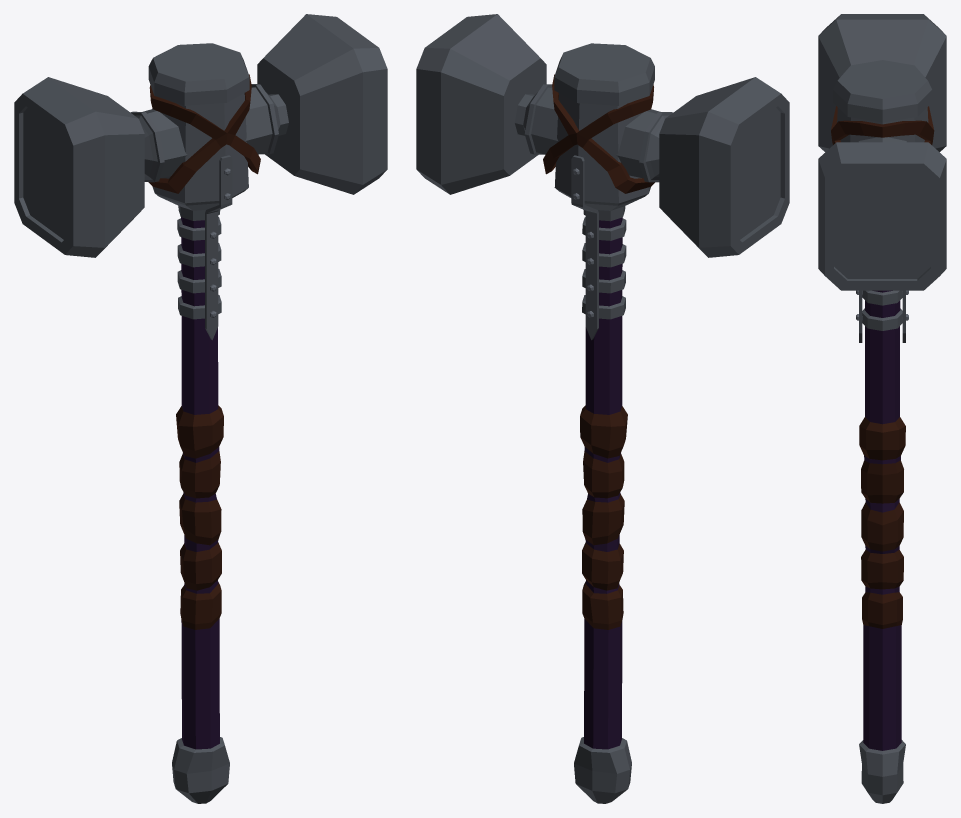
File: Hammer_Double.glb
The picture shows the model from 3 angles, left to right: view 1: azimuth 30°, elevation 25°; view 2: azimuth 150°, elevation 25°; view 3: azimuth 270°, elevation 25°; orthographic projection. The views are drawn at different scales.
Visible parts, largest first — view 1: Hammer_Double; view 2: Hammer_Double; view 3: Hammer_Double.
Part boxes in pixels (x1=…): Hammer_Double: x1=14, y1=14, x2=387, y2=803; Hammer_Double: x1=416, y1=14, x2=789, y2=803; Hammer_Double: x1=818, y1=14, x2=946, y2=803.
Bounding box in the file's own units: 0.3568 × 0.8 × 0.1297.
